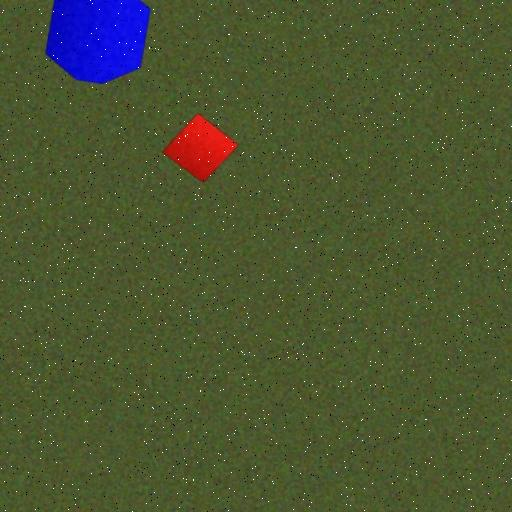RED_SQUARE: (162, 113, 239, 183)
